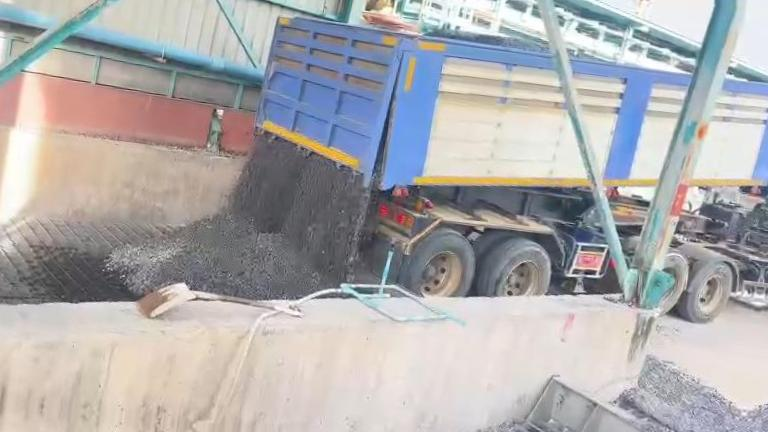gravel: (107, 136, 368, 298), (618, 356, 744, 432), (425, 28, 549, 52)
